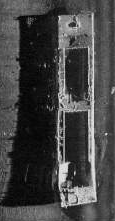ship: (49, 9, 101, 208)
